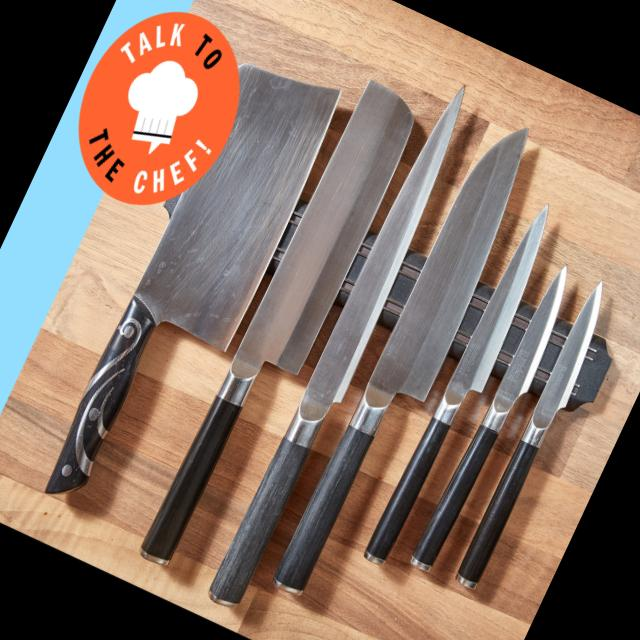Weapon: (30, 39, 353, 544), (198, 68, 488, 626), (133, 68, 431, 592), (264, 101, 552, 616), (356, 192, 560, 578), (442, 268, 628, 605), (402, 246, 586, 584)
